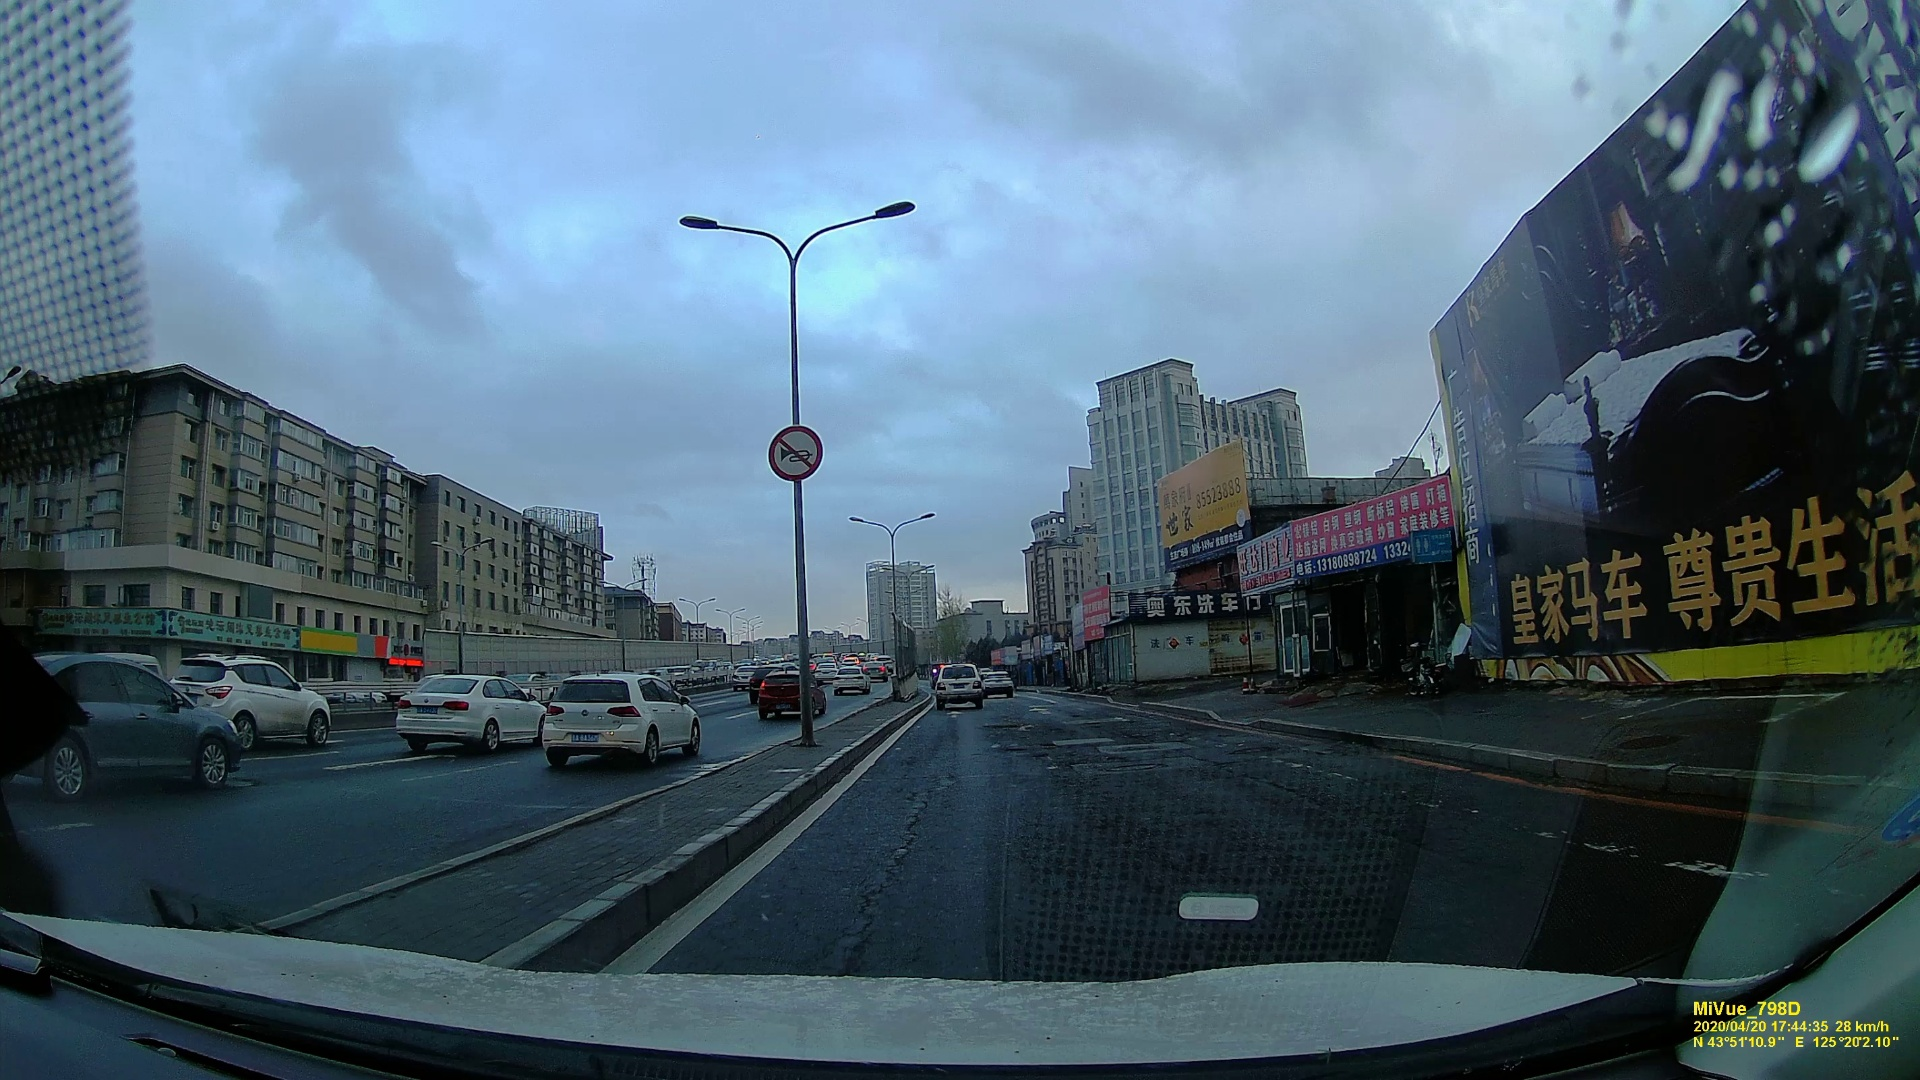traffic_sign: (767, 419, 825, 477)
vehicle: (12, 654, 240, 798), (173, 650, 328, 754), (541, 670, 698, 767), (396, 671, 537, 754), (746, 669, 831, 717), (930, 661, 981, 705)
